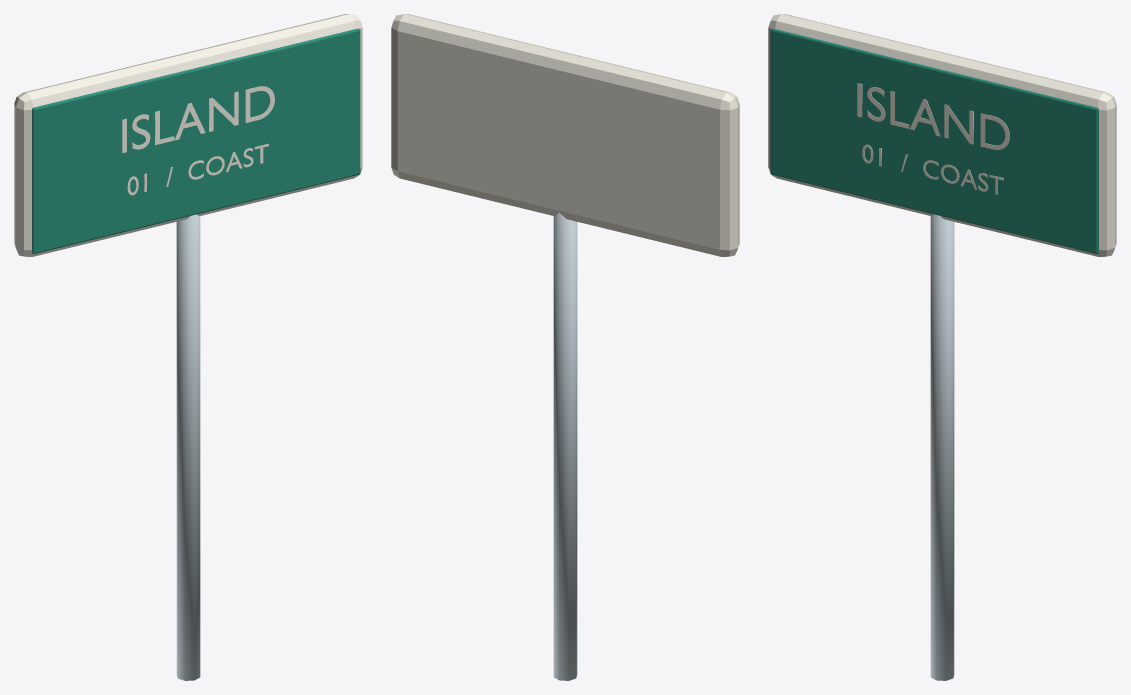
The model's file is road_sign.glb.
3 views of the same model, side by side, from view 1: azimuth 30°, elevation 25°; view 2: azimuth 150°, elevation 25°; view 3: azimuth 330°, elevation 25° (orthographic).
Visible parts, largest first — view 1: TaiwanRoadGreenParts, WarmIvoryParts.004, AlloyParts.021; view 2: WarmIvoryParts.004, AlloyParts.021; view 3: TaiwanRoadGreenParts, WarmIvoryParts.004, AlloyParts.021.
Part boxes in pixels (x1=…): TaiwanRoadGreenParts: x1=32, y1=28, x2=360, y2=253; WarmIvoryParts.004: x1=14, y1=14, x2=362, y2=257; AlloyParts.021: x1=176, y1=214, x2=200, y2=680; WarmIvoryParts.004: x1=391, y1=14, x2=739, y2=257; AlloyParts.021: x1=553, y1=212, x2=577, y2=680; TaiwanRoadGreenParts: x1=770, y1=28, x2=1098, y2=253; WarmIvoryParts.004: x1=768, y1=14, x2=1116, y2=257; AlloyParts.021: x1=930, y1=214, x2=954, y2=680.
Bounding box in the file's own units: 1.78 × 3.07 × 0.147.
